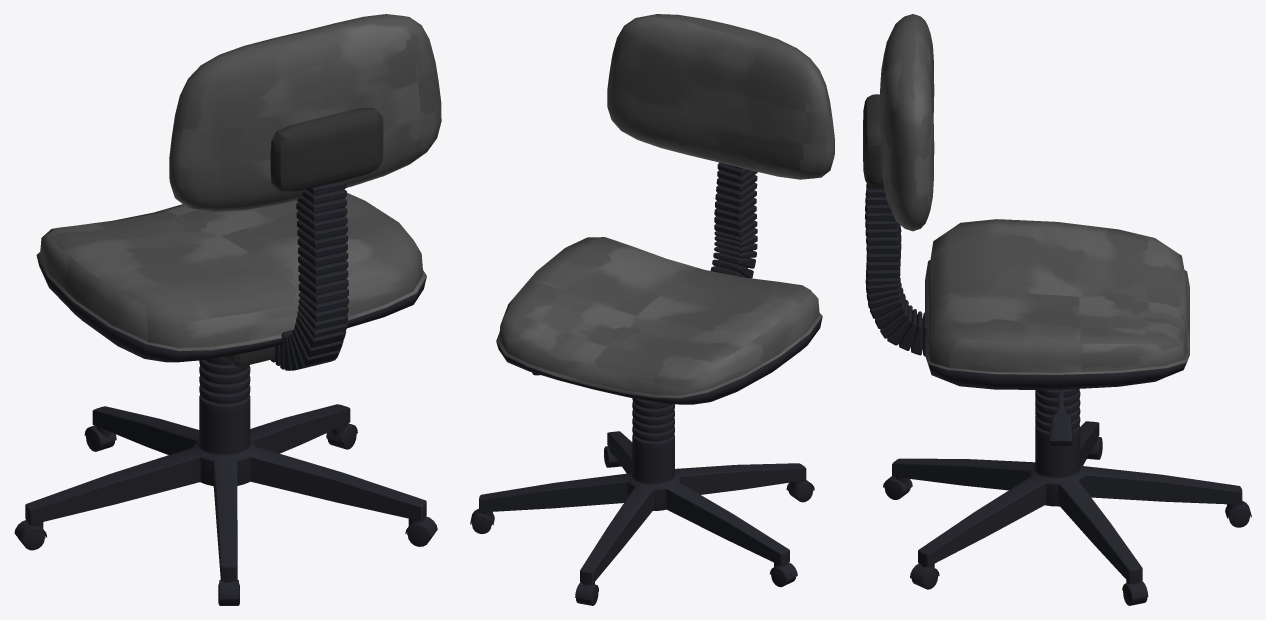
The model's file is office_chair.fbx.
The picture shows the model from 3 angles, left to right: view 1: azimuth 30°, elevation 25°; view 2: azimuth 150°, elevation 25°; view 3: azimuth 270°, elevation 25°; orthographic projection. The views are drawn at different scales.
Parts seen in each view (by area): view 1: Cube, Cube.002, Cylinder, Cube.001, Cube.003, Cylinder.001, Cube.004; view 2: Cube, Cube.002, Cylinder, Cube.001, Cylinder.001; view 3: Cube, Cylinder, Cube.002, Cube.001, Cylinder.001, Cube.003, Cube.005.
Boxes of the visible parts, x1,y1,x2,y2 form: Cube: [36, 193, 426, 362]; Cube.002: [169, 14, 441, 211]; Cylinder: [25, 357, 426, 581]; Cube.001: [270, 180, 348, 370]; Cube.003: [270, 108, 383, 191]; Cylinder.001: [14, 423, 437, 605]; Cube.004: [223, 346, 275, 366]; Cube: [496, 237, 822, 404]; Cube.002: [607, 14, 834, 179]; Cylinder: [479, 398, 806, 584]; Cube.001: [710, 162, 757, 278]; Cylinder.001: [470, 446, 814, 605]; Cube: [925, 219, 1189, 389]; Cylinder: [892, 389, 1242, 583]; Cube.002: [879, 14, 934, 231]; Cube.001: [865, 183, 928, 356]; Cylinder.001: [883, 437, 1251, 605]; Cube.003: [863, 94, 883, 187]; Cube.005: [1049, 389, 1073, 445].
Bounding box in the file's own units: 1.98 × 2.86 × 2.07.
3 materials, 1 textured.
